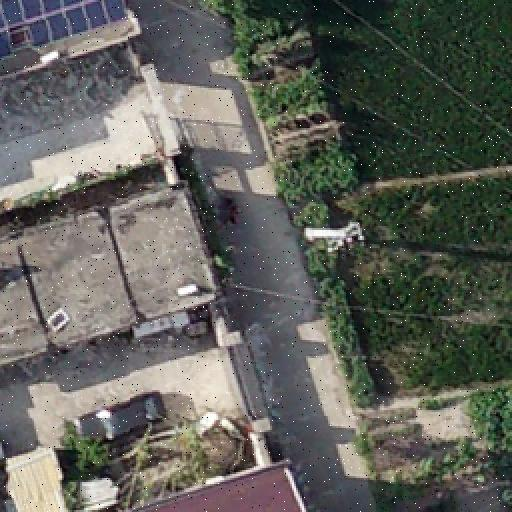solar-panel: (0, 2, 132, 66)
